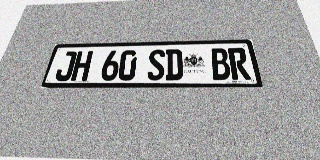0: (117, 50, 137, 81)
6: (100, 50, 121, 81)
B: (210, 48, 232, 80)
D: (165, 49, 183, 80)
H: (70, 51, 93, 81)
J: (54, 51, 77, 81)
R: (227, 48, 251, 80)
S: (147, 49, 165, 80)
